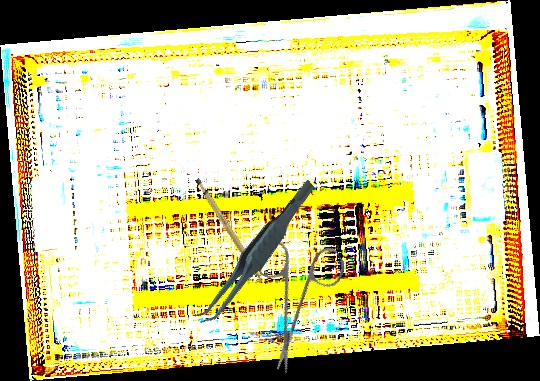Iris Scissors: (213, 211, 378, 377)
Scalpel Handle: (193, 171, 263, 290)
Tissue Forceps: (171, 178, 341, 329)
